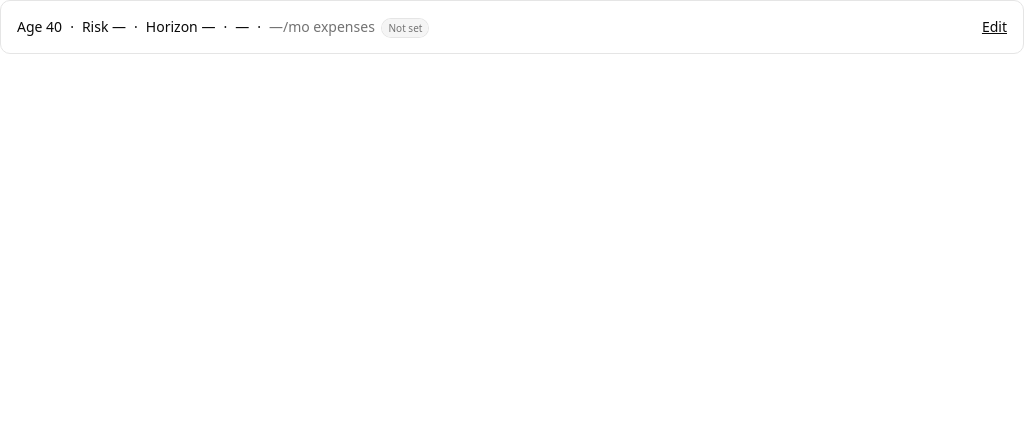
Test case: ProfileCard expanded › Cancel button closes form without calling onSave
Click the button with aria-label "edit profile": (994, 27) 982,17 -> 1007,37
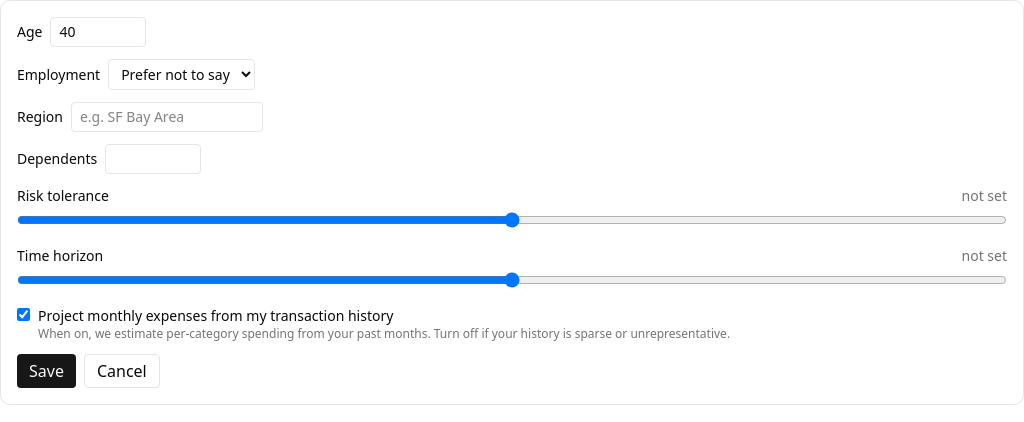
Click the button "Cancel": (122, 371) 84,354 -> 160,388
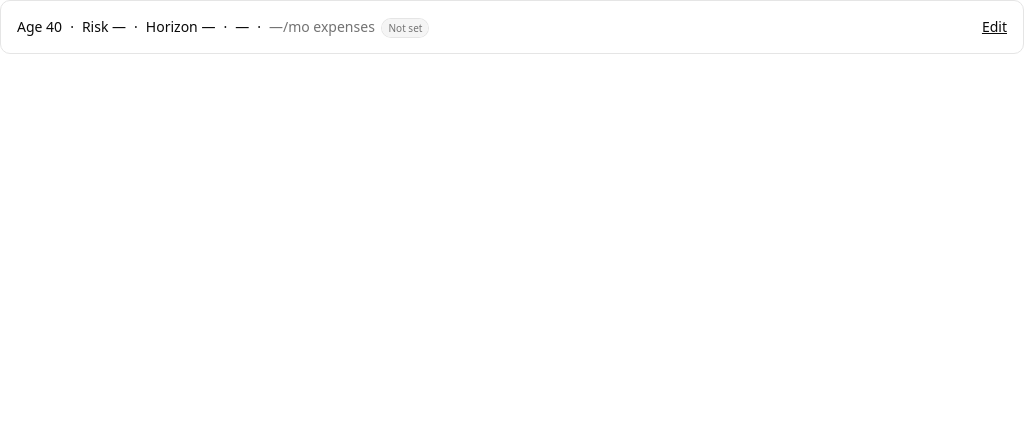
Now the text "Age 40" is shown, box 17,17 -> 62,36
